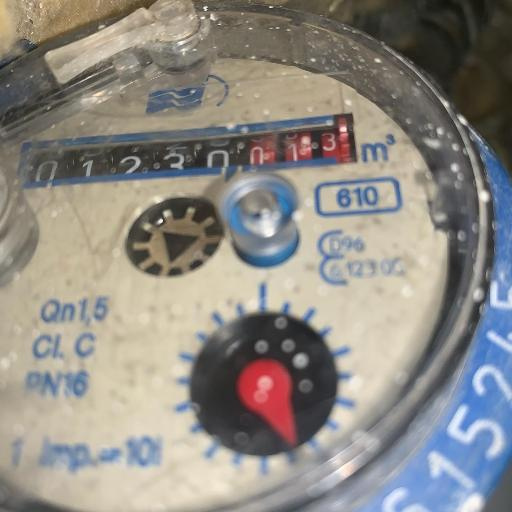0: (31, 146, 62, 188), (204, 137, 235, 170), (248, 132, 270, 165)
1: (73, 142, 103, 183), (285, 129, 306, 162)
2: (115, 140, 147, 178)
3: (157, 141, 191, 173), (319, 125, 341, 158)
border_water_meter_number: (11, 112, 357, 190)
